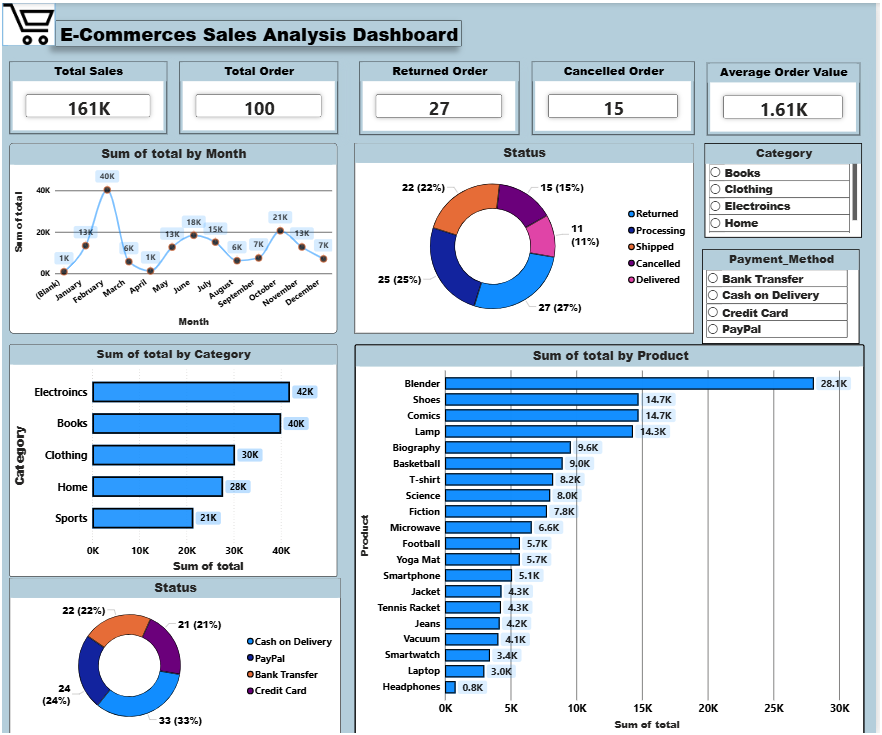

Layout of this report page (visuals, bound fields, positions):
{"tool":"powerbi","page":{"name":"Page 1","canvas":[1550,1300],"ordinal":0},"visuals":[{"type":"textbox","title":"E-Commerces Sales Analysis Dashboard","box":[94.7,30.2,719,45.3],"z":0},{"type":"image","box":[0,0,94.7,75.5],"z":1000},{"type":"cardVisual","title":"Total Sales","fields":{"Data":["Sum(E Commerces sales.total)"]},"box":[13.3,103,279.2,127.9],"z":2000},{"type":"cardVisual","title":"Returned Order","fields":{"Data":["E Commerces sales.Returned Orders"]},"box":[634,104,282.9,129.5],"z":3000},{"type":"cardVisual","title":"Average Order Value","fields":{"Data":["E Commerces sales.Average Order Value"]},"box":[1249.2,105.7,271,127.8],"z":4000},{"type":"cardVisual","title":"Cancelled Order","fields":{"Data":["E Commerces sales.Cancelled Orders"]},"box":[939,104,288,129.5],"z":5000},{"type":"cardVisual","title":"Total Order","fields":{"Data":["CountNonNull(E Commerces sales.Order_ID)"]},"box":[313.6,104,281.2,127.8],"z":6000},{"type":"listSlicer","fields":{"Values":["E Commerces sales.Category"]},"box":[1245.1,248.1,279.1,168.4],"z":7000},{"type":"lineChart","fields":{"Category":["E Commerces sales.Order_Date.Variation.Date Hierarchy.Month"],"Y":["Sum(E Commerces sales.total)"]},"box":[13.6,247.1,581.1,337.4],"z":8000},{"type":"donutChart","title":" Status","fields":{"Y":["CountNonNull(E Commerces sales.Status)"],"Category":["E Commerces sales.Status"]},"box":[625.4,247.1,601.6,337.4],"z":9000},{"type":"clusteredBarChart","fields":{"Y":["Sum(E Commerces sales.total)"],"Category":["E Commerces sales.Category"]},"box":[13.3,604.8,580.4,412.1],"z":10000},{"type":"clusteredBarChart","fields":{"Y":["Sum(E Commerces sales.total)"],"Category":["E Commerces sales.Product"]},"box":[624.7,604.8,903.9,695.6],"z":11000},{"type":"listSlicer","fields":{"Values":["E Commerces sales.Payment_Method"]},"box":[1240.6,436.4,279.1,168.4],"z":12000},{"type":"donutChart","title":" Status","fields":{"Y":["CountNonNull(E Commerces sales.Payment_Method)"],"Category":["E Commerces sales.Payment_Method"]},"box":[13.3,1019.1,587.1,281.4],"z":13000}]}

Visuals, with their boxes in screenshot pixels (x1, y1, x2, y2), scaled from the page's 1550x1300 canvas onto the 882x735 screenshot:
"E-Commerces Sales Analysis Dashboard" textbox: 54, 17, 463, 43
image: 0, 0, 54, 43
"Total Sales" cardVisual: 8, 58, 166, 131
"Returned Order" cardVisual: 361, 59, 522, 132
"Average Order Value" cardVisual: 711, 60, 865, 132
"Cancelled Order" cardVisual: 534, 59, 698, 132
"Total Order" cardVisual: 178, 59, 338, 131
listSlicer - E Commerces sales.Category: 709, 140, 867, 235
lineChart - E Commerces sales.Order_Date.Variation.Date Hierarchy.Month x Sum(E Commerces sales.total): 8, 140, 338, 330
" Status" donutChart: 356, 140, 698, 330
clusteredBarChart - Sum(E Commerces sales.total) x E Commerces sales.Category: 8, 342, 338, 575
clusteredBarChart - Sum(E Commerces sales.total) x E Commerces sales.Product: 355, 342, 870, 734
listSlicer - E Commerces sales.Payment_Method: 706, 247, 865, 342
" Status" donutChart: 8, 576, 342, 734
